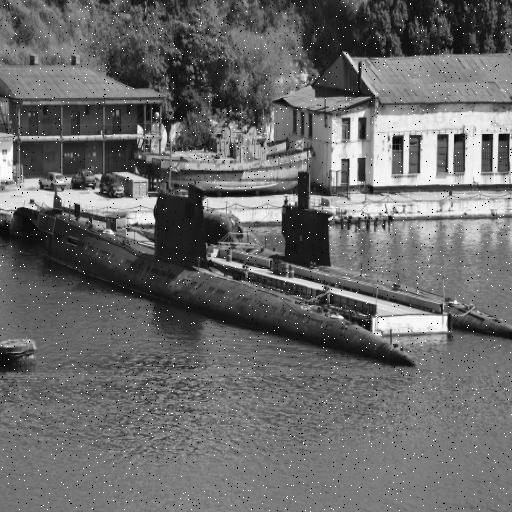submarine: (1, 145, 415, 366), (161, 172, 512, 345)
